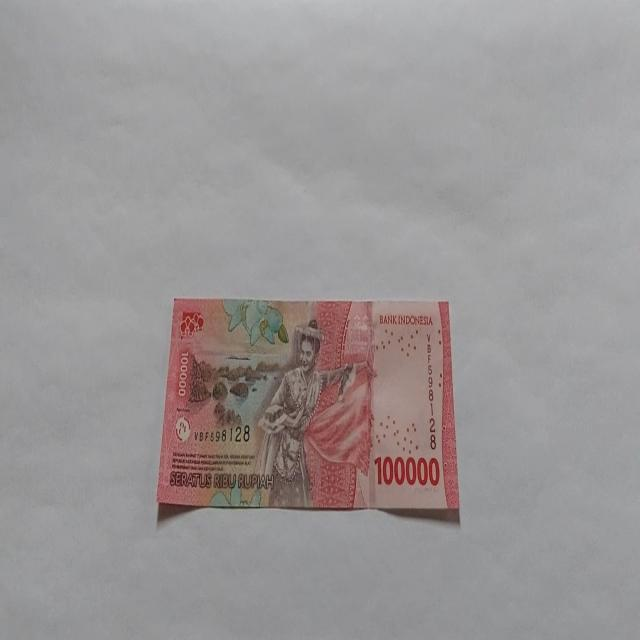seratus ribu rupiah: (156, 296, 460, 516), (254, 318, 352, 508)
